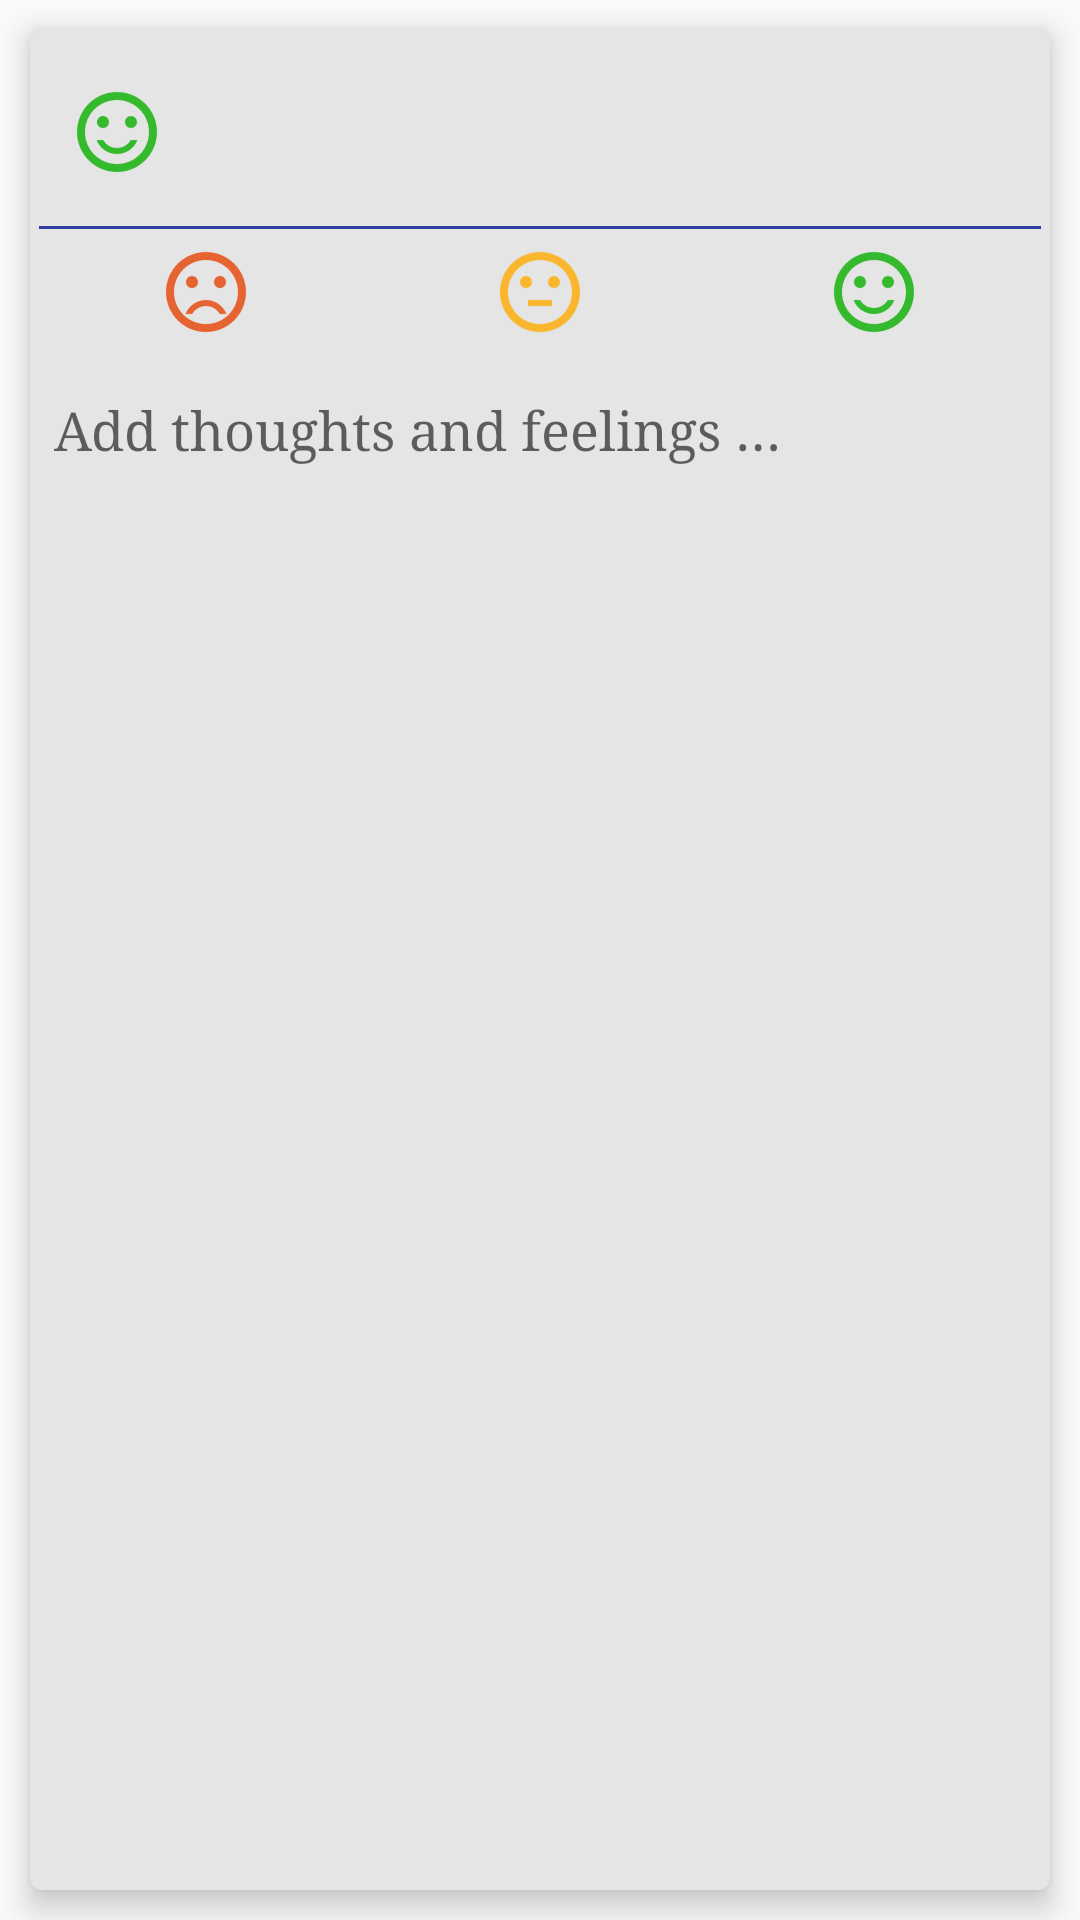

Locate icon controls on the screen. Image size 1080 × 1920, boxes as rect(x1, y1, x2, y2).
happy: rect(77, 92, 157, 172), rect(834, 252, 914, 332)
neutral: rect(500, 252, 580, 332)
sad: rect(166, 252, 246, 332)
